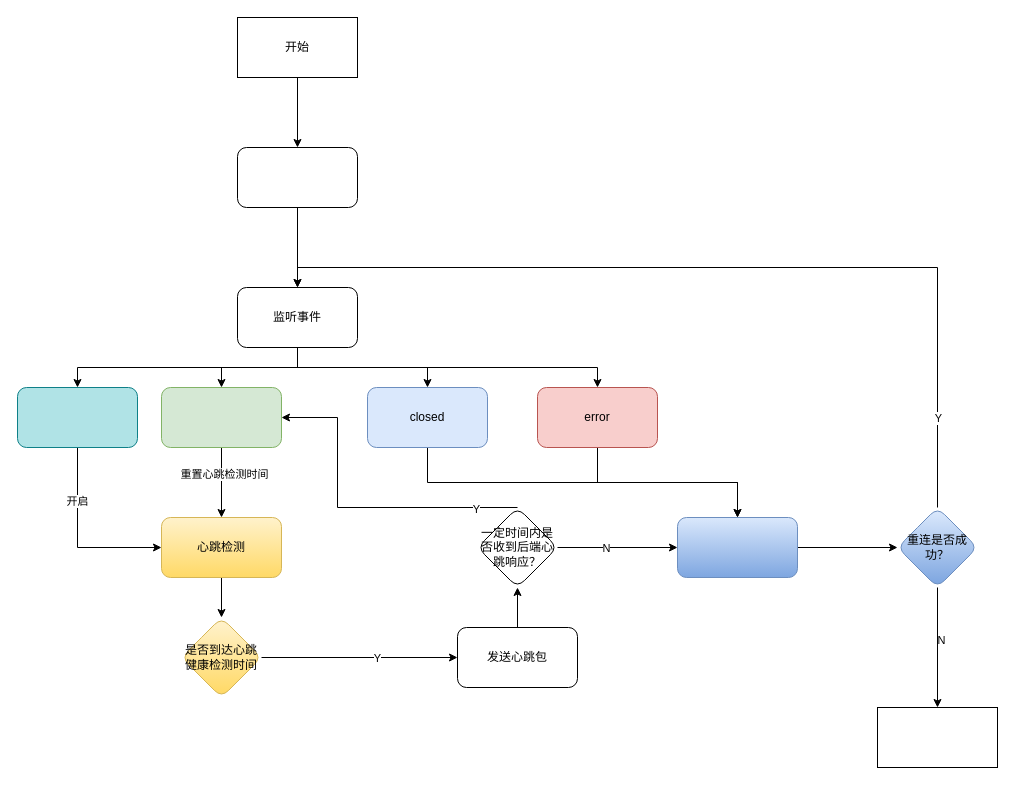
The diagram is 1015 pixels wide and 785 high, and some of its shapes have lost their labels. The centre of each missing label's shape, as x and y in pixels:
message: (221,417)
open: (77,417)
websocket连接: (297,177)
结束: (937,737)
重新连接: (737,547)
